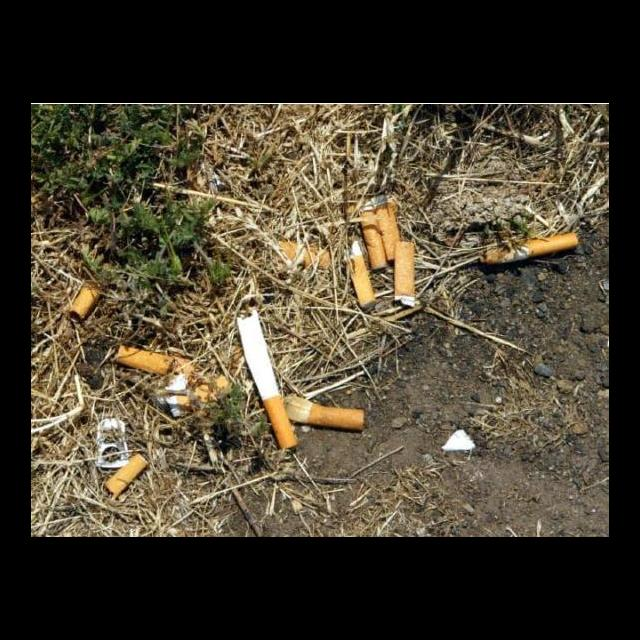Cigarette Butt: (235, 309, 299, 450), (479, 230, 581, 266), (283, 392, 366, 432), (343, 240, 378, 310), (108, 343, 177, 378), (102, 453, 150, 501), (358, 200, 389, 272), (371, 192, 402, 262), (271, 240, 331, 271), (68, 279, 105, 324), (393, 241, 417, 310), (163, 373, 231, 397)
